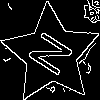N: (26, 29, 82, 84)
